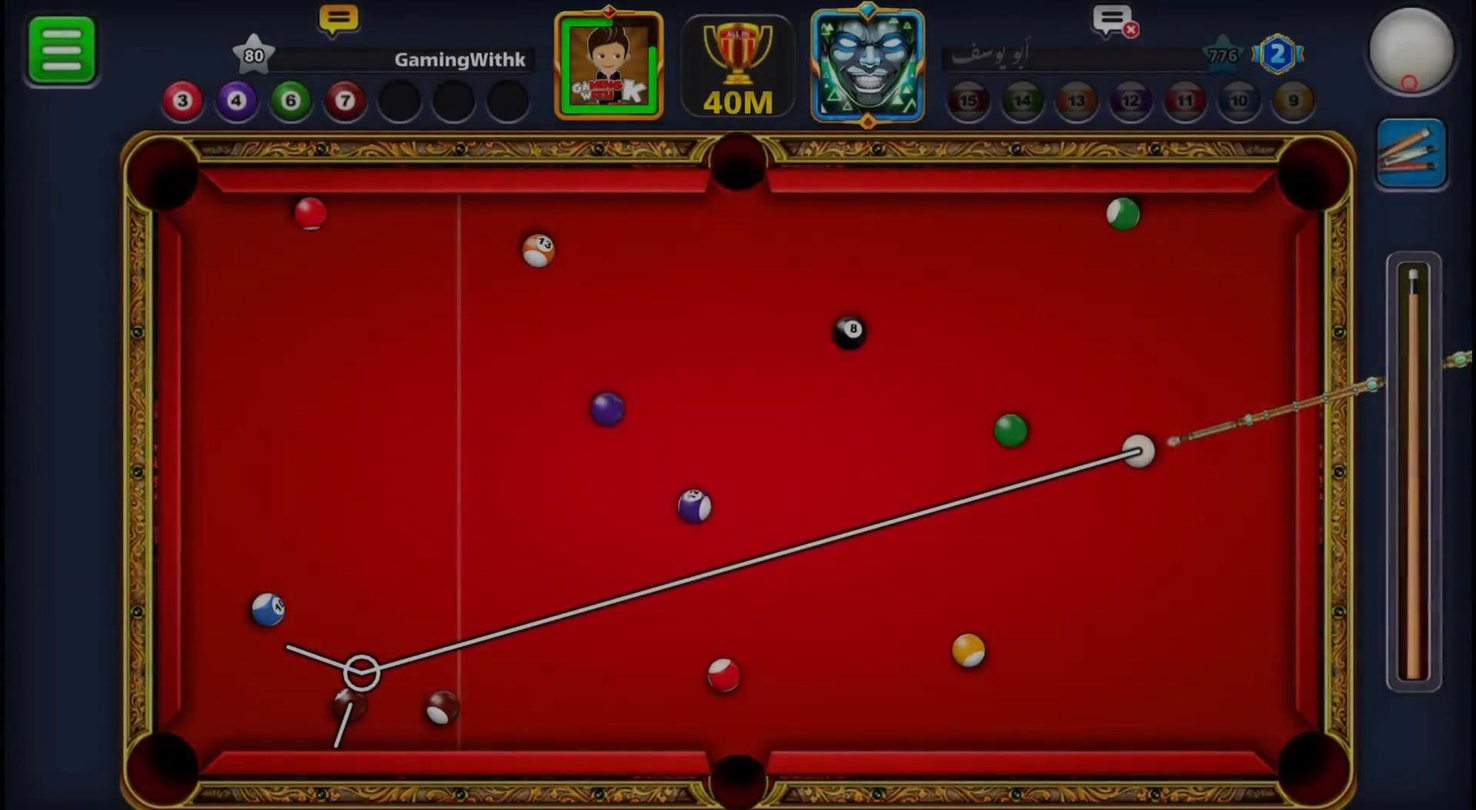Ball: (319, 681, 377, 723), (1098, 192, 1149, 233), (949, 629, 991, 676), (423, 686, 465, 729), (249, 591, 288, 634), (832, 310, 868, 351), (589, 390, 626, 428), (992, 409, 1029, 447), (675, 490, 712, 527), (521, 231, 557, 268), (708, 660, 743, 696), (293, 195, 328, 231)
Force: (1386, 249, 1445, 692)
Guideline: (281, 443, 1139, 682), (341, 654, 382, 692), (330, 716, 359, 752)
Hole: (1272, 132, 1356, 220), (1275, 731, 1352, 810), (124, 135, 202, 212), (126, 730, 202, 805), (702, 748, 771, 810), (708, 131, 768, 191)
Play_Area: (181, 192, 1293, 753)
Spin: (1360, 4, 1462, 99)
White: (1120, 434, 1158, 474)
